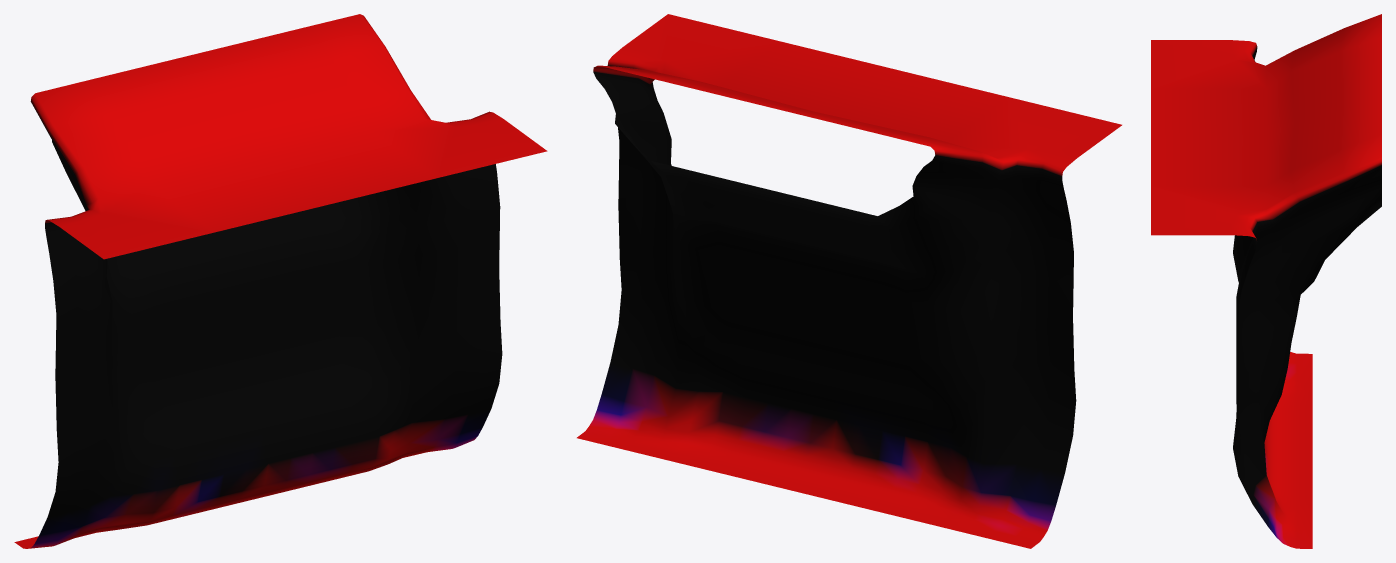
Rendered from CrossingCliff02B 3M Background.fbx.
The picture shows the model from 3 angles, left to right: view 1: azimuth 30°, elevation 25°; view 2: azimuth 150°, elevation 25°; view 3: azimuth 270°, elevation 25°; orthographic projection. The views are drawn at different scales.
Visible parts, largest first — view 1: CrossingCliff02B 3M Background; view 2: CrossingCliff02B 3M Background; view 3: CrossingCliff02B 3M Background.
Boxes of the visible parts, box(x1,y1,x2,y2) form: CrossingCliff02B 3M Background: box(14, 14, 547, 548); CrossingCliff02B 3M Background: box(577, 14, 1121, 548); CrossingCliff02B 3M Background: box(1151, 14, 1381, 548).
Bounding box in the file's own units: 4 × 3.5 × 2.
